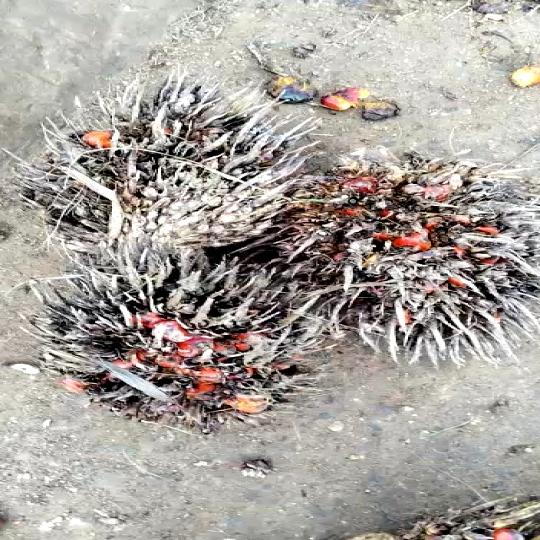terlalu masak: (0, 82, 330, 259), (0, 256, 336, 428), (277, 159, 540, 353)
